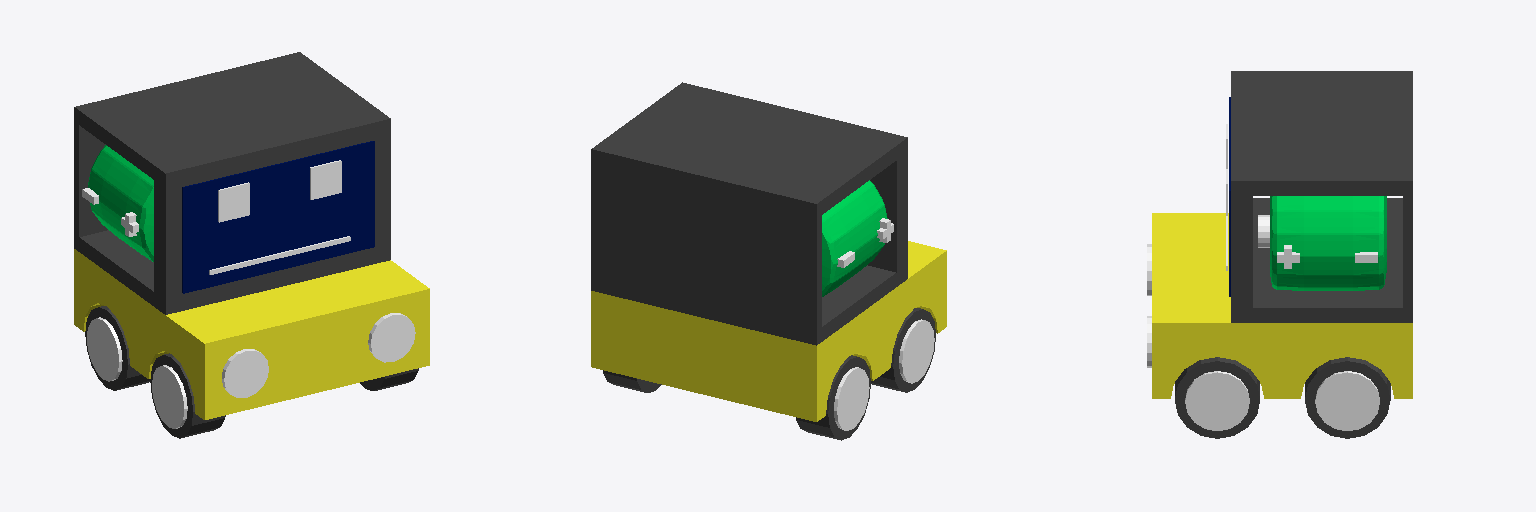
File: car.obj
3 renders of one model, left to right at view 1: azimuth 30°, elevation 25°; view 2: azimuth 150°, elevation 25°; view 3: azimuth 270°, elevation 25°, orthographic.
Visible parts, largest first — view 1: top, base, window, power, light, tire, white, eye2, eye1, mouse; view 2: top, base, power, tire, white; view 3: top, base, power, white, tire.
Boxes of the visible parts, <box> form: top: <box>74,52,390,314</box>; base: <box>74,249,429,419</box>; window: <box>182,141,374,293</box>; power: <box>88,145,153,261</box>; light: <box>222,313,415,397</box>; tire: <box>85,306,418,438</box>; white: <box>87,317,187,428</box>; eye2: <box>310,160,341,199</box>; eye1: <box>218,182,249,222</box>; mouse: <box>209,236,350,274</box>; top: <box>591,82,907,345</box>; base: <box>591,241,946,421</box>; power: <box>822,180,887,296</box>; tire: <box>603,308,935,440</box>; white: <box>834,319,934,430</box>; top: <box>1231,71,1412,322</box>; base: <box>1152,213,1412,398</box>; power: <box>1270,196,1386,290</box>; white: <box>1185,371,1379,430</box>; tire: <box>1175,357,1390,438</box>.
Size of the model in its own units: 2.22 by 2.18 by 2.04.